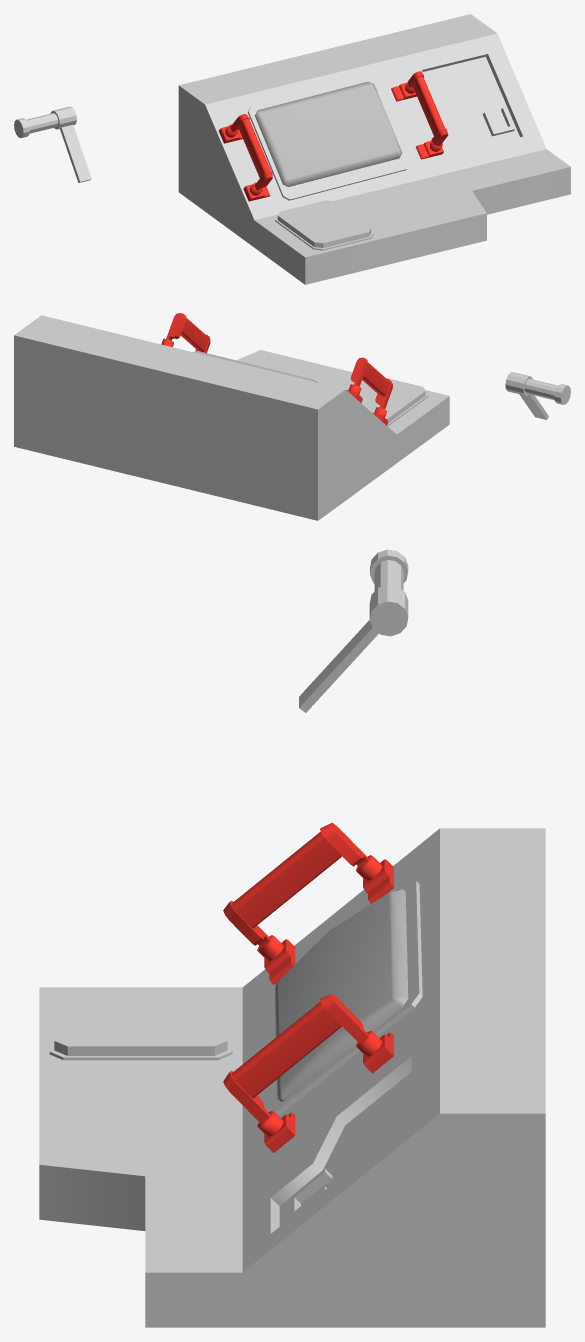
Rendered from testconsole.fbx.
3 views of the same model, one above another, from view 1: azimuth 30°, elevation 25°; view 2: azimuth 150°, elevation 25°; view 3: azimuth 270°, elevation 25° (orthographic). The views are drawn at different scales.
Parts seen in each view (by area): view 1: HandBar_1_HandBar_A, Lever_Pivot_pCylinder1; view 2: HandBar_1_HandBar_A, Lever_Pivot_pCylinder1; view 3: HandBar_1_HandBar_A, Lever_Pivot_pCylinder1.
Boxes of the visible parts, <box> form: HandBar_1_HandBar_A: <box>178,14,570,284</box>; Lever_Pivot_pCylinder1: <box>14,106,91,182</box>; HandBar_1_HandBar_A: <box>14,313,449,520</box>; Lever_Pivot_pCylinder1: <box>505,372,570,419</box>; HandBar_1_HandBar_A: <box>39,822,545,1327</box>; Lever_Pivot_pCylinder1: <box>299,549,408,712</box>.
Bounding box in the file's own units: 168 × 48.85 × 75.
